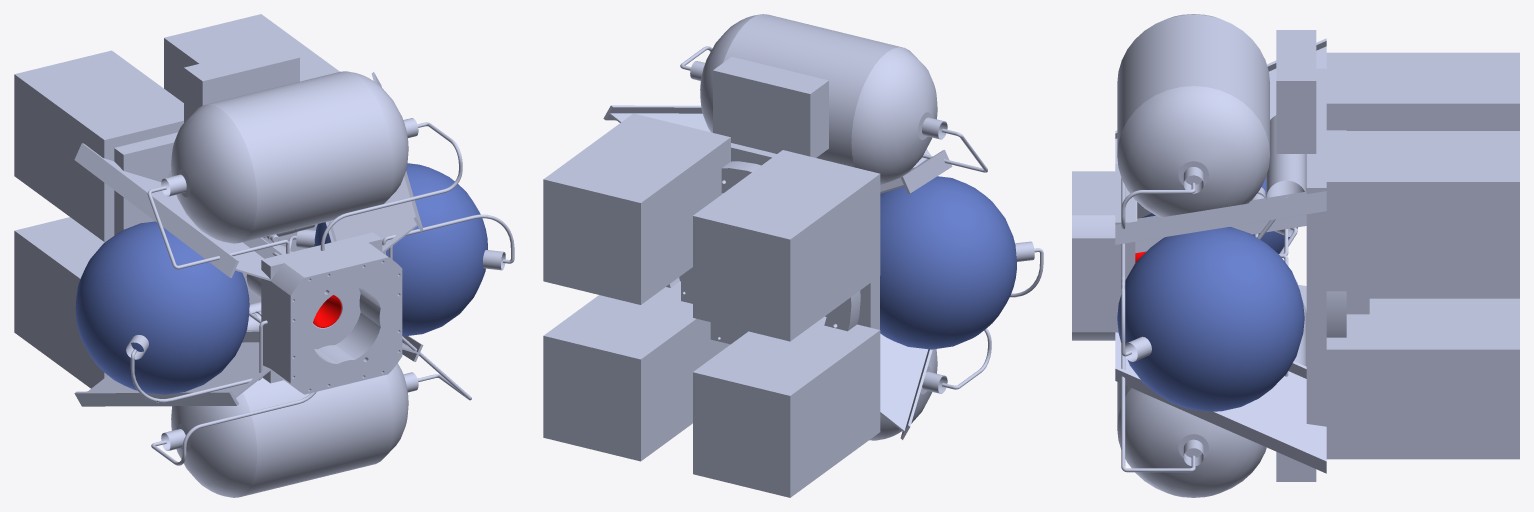
Rendered from МРБ.gltf.
The picture shows the model from 3 angles, left to right: view 1: azimuth 30°, elevation 25°; view 2: azimuth 150°, elevation 25°; view 3: azimuth 270°, elevation 25°; orthographic projection. The views are drawn at different scales.
Visible parts, largest first — view 1: NAUO17, NAUO18, NAUO16, NAUO27, NAUO1, NAUO25, NAUO19, NAUO30, NAUO28, NAUO22, NAUO24, NAUO21 (+7 smaller); view 2: NAUO27, NAUO30, NAUO28, NAUO29, NAUO18, NAUO17, NAUO22, NAUO1, NAUO31, NAUO21, NAUO26, NAUO16; view 3: NAUO28, NAUO29, NAUO19, NAUO17, NAUO1, NAUO27, NAUO16, NAUO25, NAUO21, NAUO22, NAUO24, NAUO30 (+6 smaller).
Part boxes in pixels (left/top/right/bottom): NAUO17: left=171, top=71, right=408, bottom=243; NAUO18: left=75, top=221, right=249, bottom=394; NAUO16: left=171, top=363, right=408, bottom=497; NAUO27: left=14, top=50, right=183, bottom=241; NAUO1: left=74, top=72, right=505, bottom=450; NAUO25: left=270, top=242, right=402, bottom=394; NAUO19: left=314, top=163, right=487, bottom=336; NAUO30: left=14, top=217, right=107, bottom=388; NAUO28: left=164, top=14, right=339, bottom=102; NAUO22: left=184, top=44, right=299, bottom=122; NAUO24: left=261, top=232, right=382, bottom=383; NAUO21: left=114, top=132, right=317, bottom=304; NAUO27: left=693, top=150, right=880, bottom=341; NAUO30: left=693, top=316, right=880, bottom=497; NAUO28: left=543, top=113, right=730, bottom=304; NAUO29: left=543, top=281, right=730, bottom=461; NAUO18: left=880, top=176, right=1016, bottom=349; NAUO17: left=700, top=14, right=937, bottom=184; NAUO22: left=713, top=56, right=828, bottom=157; NAUO1: left=603, top=61, right=1034, bottom=439; NAUO31: left=666, top=161, right=860, bottom=331; NAUO21: left=679, top=143, right=879, bottom=329; NAUO26: left=681, top=267, right=747, bottom=344; NAUO16: left=869, top=349, right=937, bottom=440; NAUO28: left=1326, top=131, right=1519, bottom=291; NAUO29: left=1326, top=298, right=1519, bottom=459; NAUO19: left=1117, top=227, right=1304, bottom=411; NAUO17: left=1117, top=14, right=1269, bottom=217; NAUO1: left=1115, top=38, right=1326, bottom=473; NAUO27: left=1326, top=52, right=1519, bottom=130; NAUO16: left=1117, top=382, right=1266, bottom=497; NAUO25: left=1072, top=171, right=1115, bottom=340; NAUO21: left=1306, top=68, right=1326, bottom=426; NAUO22: left=1276, top=30, right=1316, bottom=153; NAUO24: left=1115, top=164, right=1135, bottom=332; NAUO30: left=1369, top=291, right=1519, bottom=298.
Bounding box in the file's own units: 1.2 × 1.13 × 1.11.
